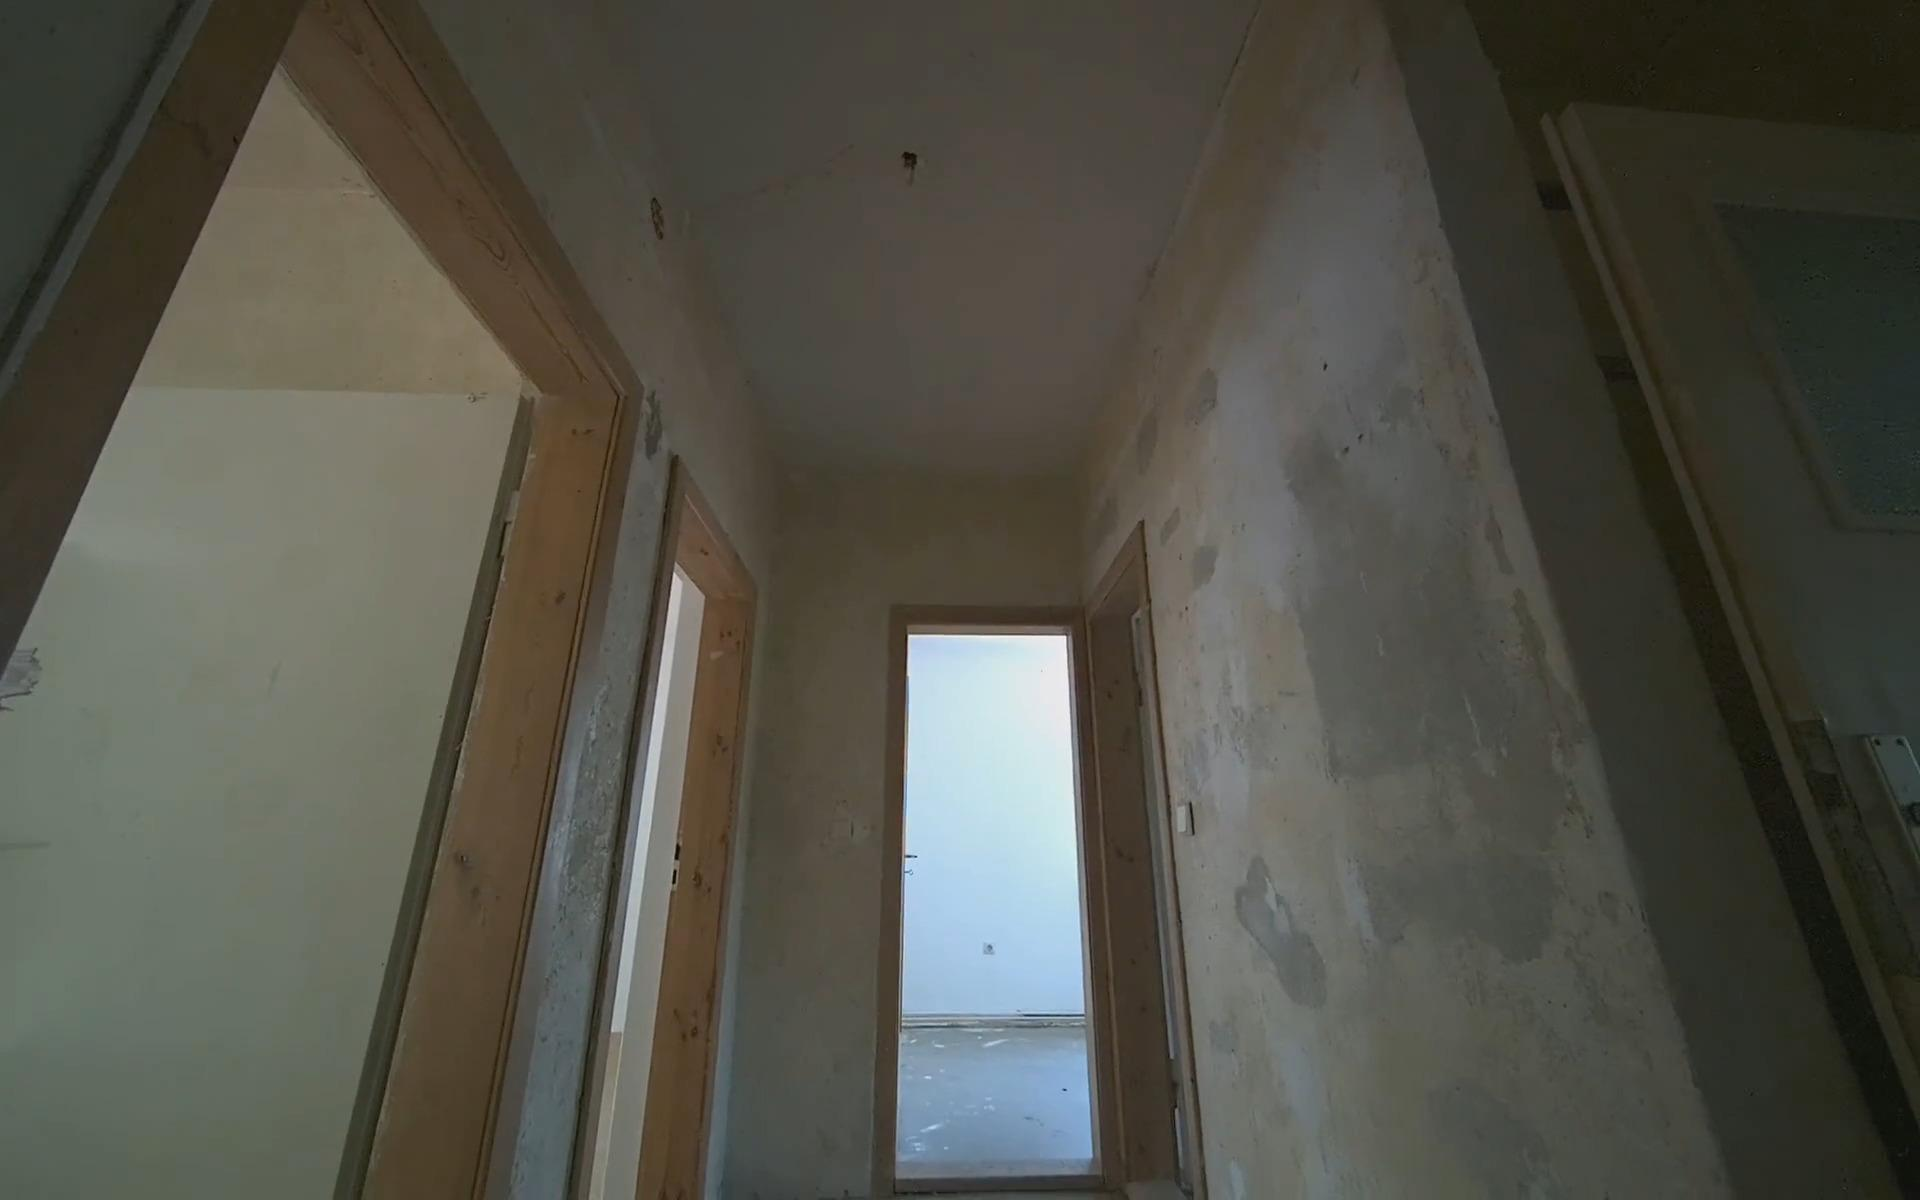doors: (0, 0, 648, 1200), (1545, 91, 1920, 1200), (496, 455, 767, 1200), (874, 597, 1117, 1200), (1091, 509, 1254, 1200)
